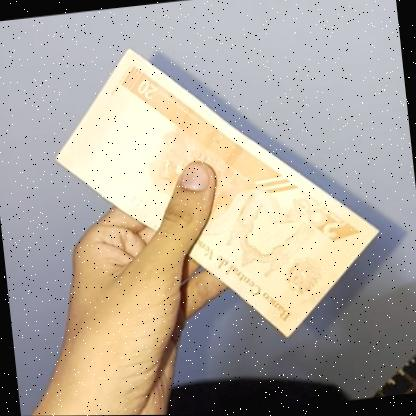vef_back: (42, 20, 394, 366)
